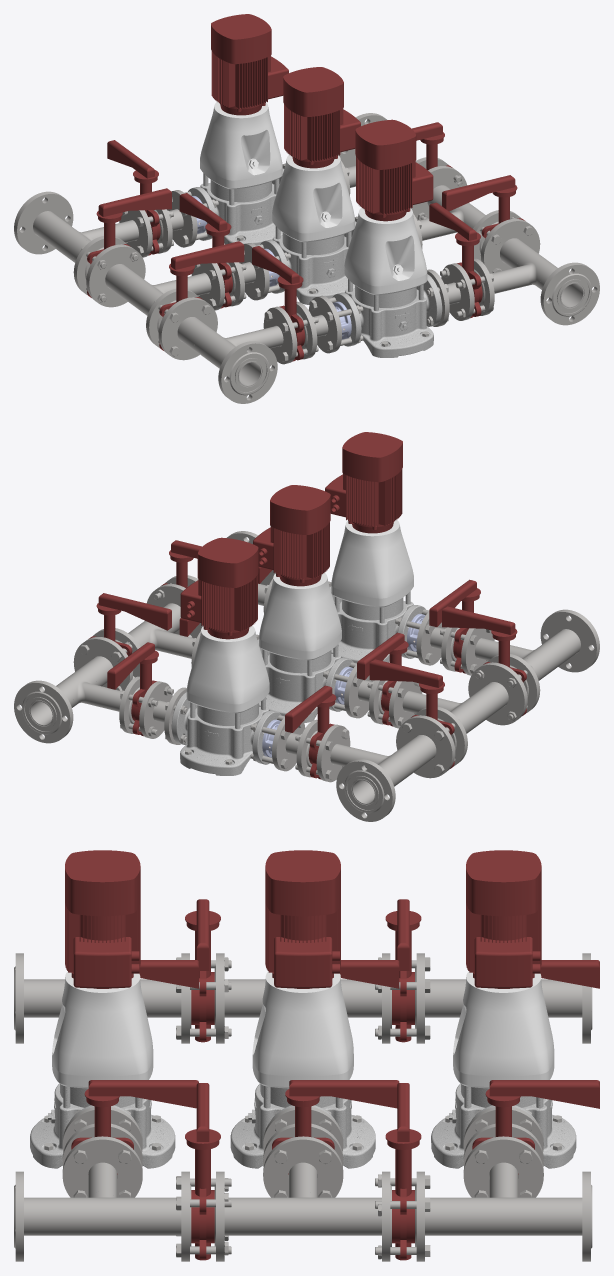
The model's file is ECOWARD-CNP-expo.glb.
The picture shows the model from 3 angles, top to bottom: view 1: azimuth 30°, elevation 25°; view 2: azimuth 150°, elevation 25°; view 3: azimuth 270°, elevation 25°; orthographic projection. The views are drawn at different scales.
Parts seen in each view (by area): view 1: Твердое тело1 (×16), Solid1 (×35), Твердое тело2 (×3); view 2: Твердое тело1 (×16), Solid1 (×36), Твердое тело2 (×3); view 3: Твердое тело1 (×19), Solid1 (×39), Твердое тело2 (×4).
Part boxes in pixels (box(x1,y1,x2,y2)): Твердое тело1 (×16): box(87, 14, 524, 361); Solid1 (×35): box(14, 166, 599, 403); Твердое тело2 (×3): box(98, 175, 515, 269); Твердое тело1 (×16): box(89, 432, 526, 779); Solid1 (×36): box(14, 584, 599, 821); Твердое тело2 (×3): box(98, 593, 515, 687); Твердое тело1 (×19): box(30, 850, 599, 1260); Solid1 (×39): box(14, 953, 592, 1261); Твердое тело2 (×4): box(196, 899, 409, 1141).
Bounding box in the file's own units: 1.21 × 0.631 × 1.17.
Materials: 6 (1 with a texture image).
